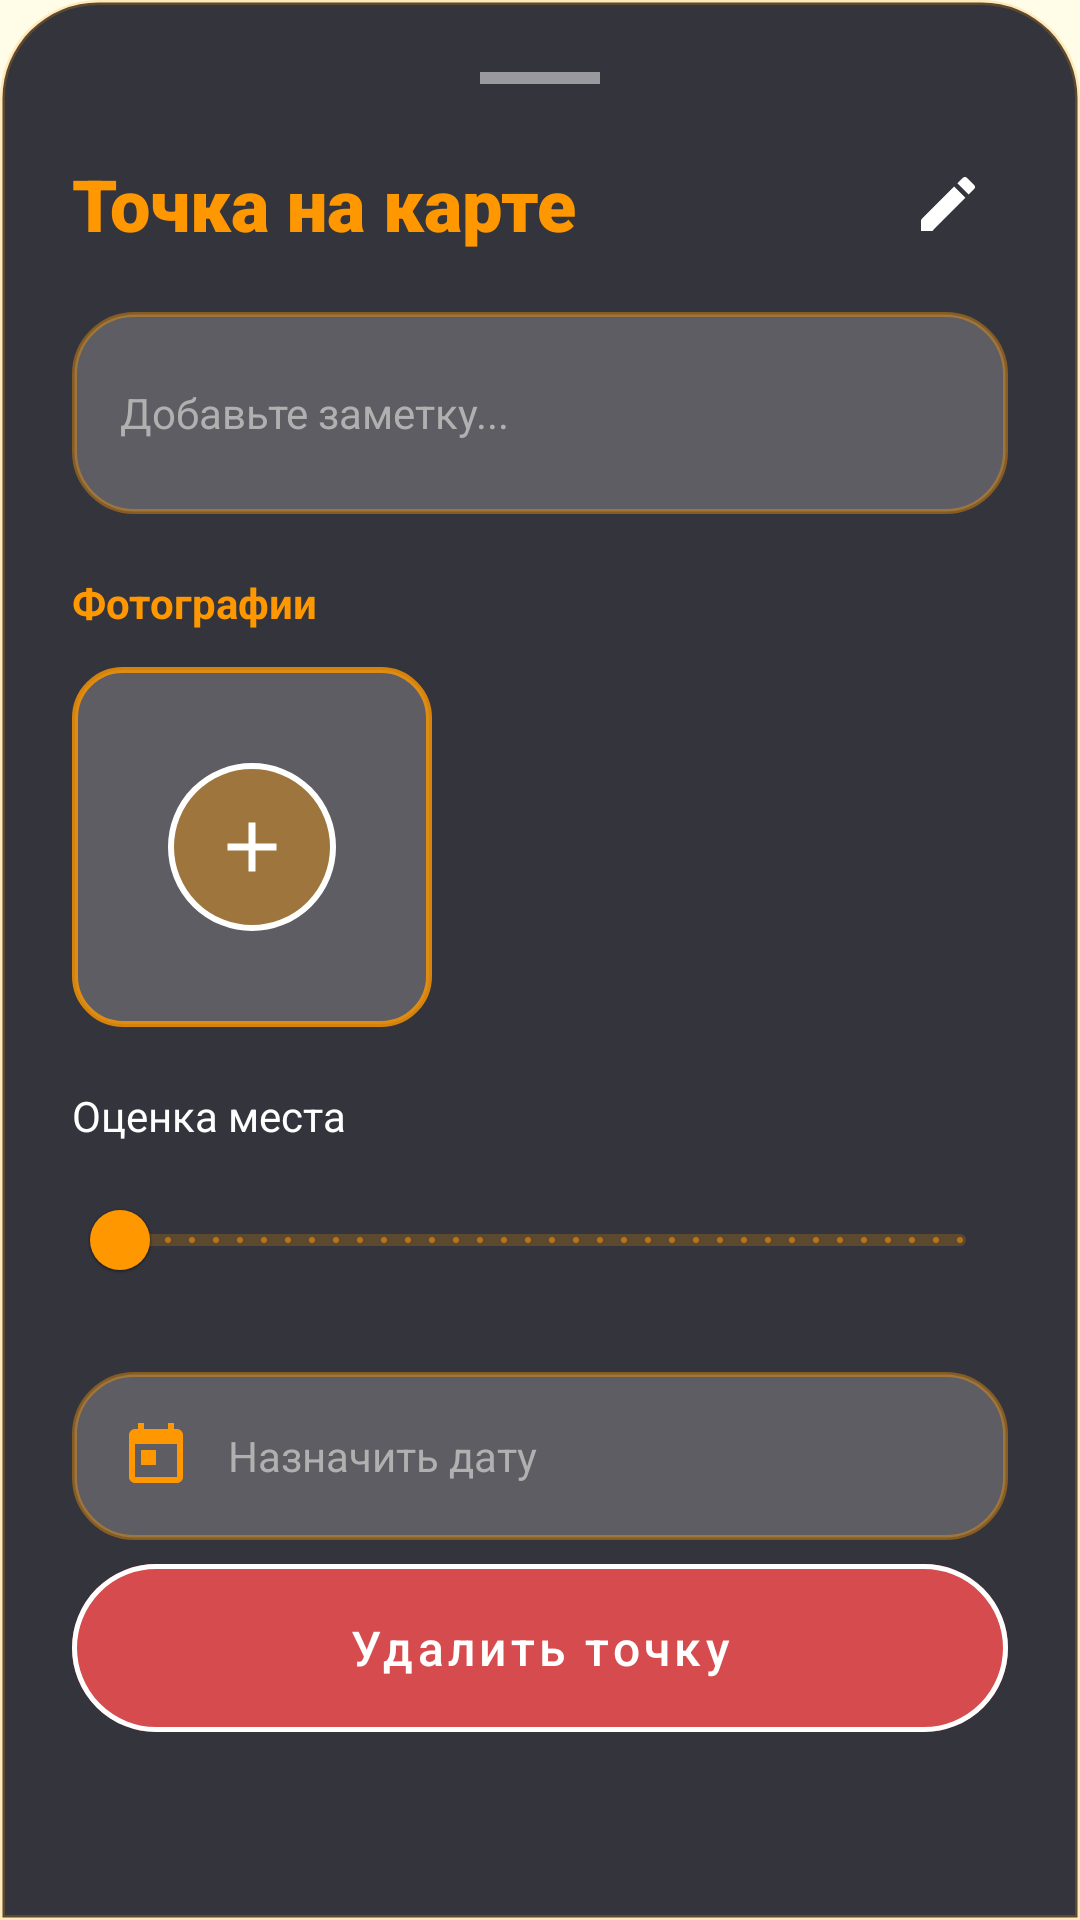

Screen size 1080px x 1920px. Icon name, then its box in pixels as (x1, y1, x2, y2):
add photo premium: (168, 763, 336, 931)
calendar premium: (129, 1423, 183, 1483)
edit premium: (921, 177, 975, 231)
